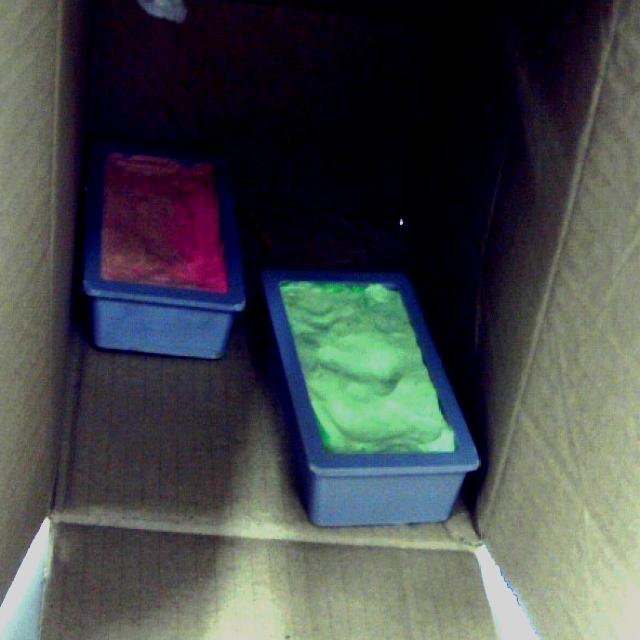block: (256, 266, 482, 526), (80, 138, 252, 360)
